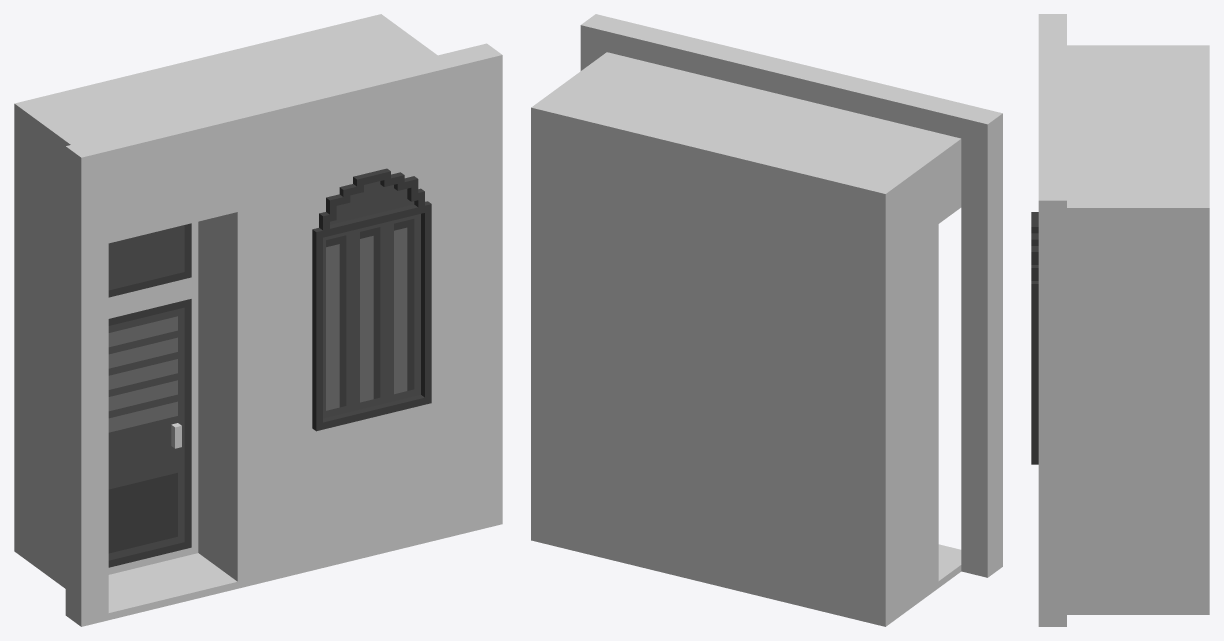
The model's file is whiteTwo.glb.
The picture shows the model from 3 angles, left to right: view 1: azimuth 30°, elevation 25°; view 2: azimuth 150°, elevation 25°; view 3: azimuth 270°, elevation 25°; orthographic projection. The views are drawn at different scales.
Visible parts, largest first — view 1: ObjObject; view 2: ObjObject; view 3: ObjObject.
Boxes of the visible parts, x1=… form: ObjObject: x1=14, y1=14, x2=502, y2=626; ObjObject: x1=531, y1=14, x2=1002, y2=626; ObjObject: x1=1031, y1=14, x2=1209, y2=626.
Size of the model in its own units: 6.2 by 6.6 by 2.5.
Materials: 1 (1 with a texture image).
